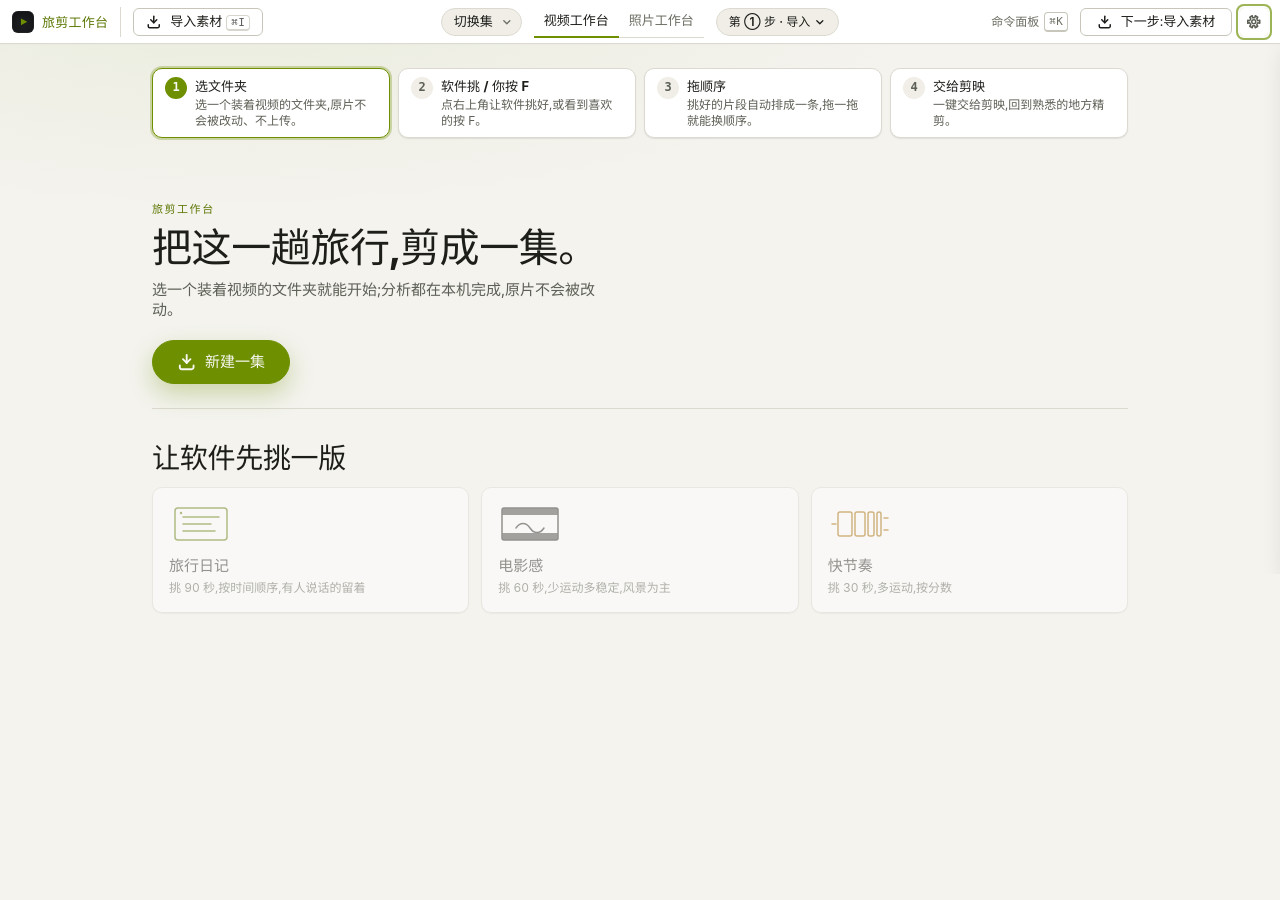
it: R13 设置 → 快捷键 › 撞键即时提示:把「拒绝」录成 F,收藏与拒绝两行都标冲突(role=alert)
The image size is (1280, 900).
Click the button named "设置" at (1254, 22), box [1240, 8, 1268, 36]
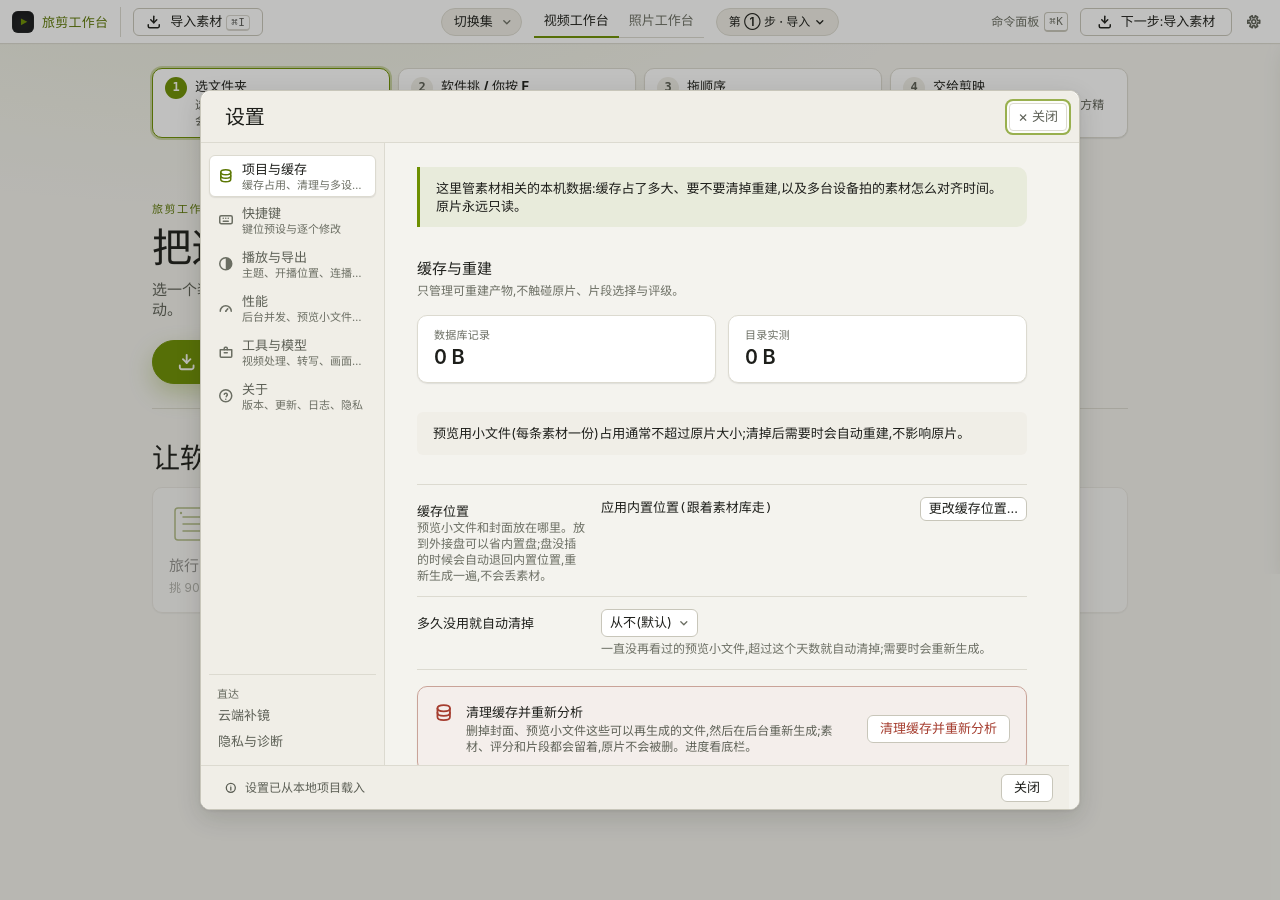
Expected: the message reads "设置已从本地项目载入", [245, 780, 365, 794]
Click the tab "快捷键 键位预设与逐个修改" at (292, 220), box [209, 199, 376, 241]
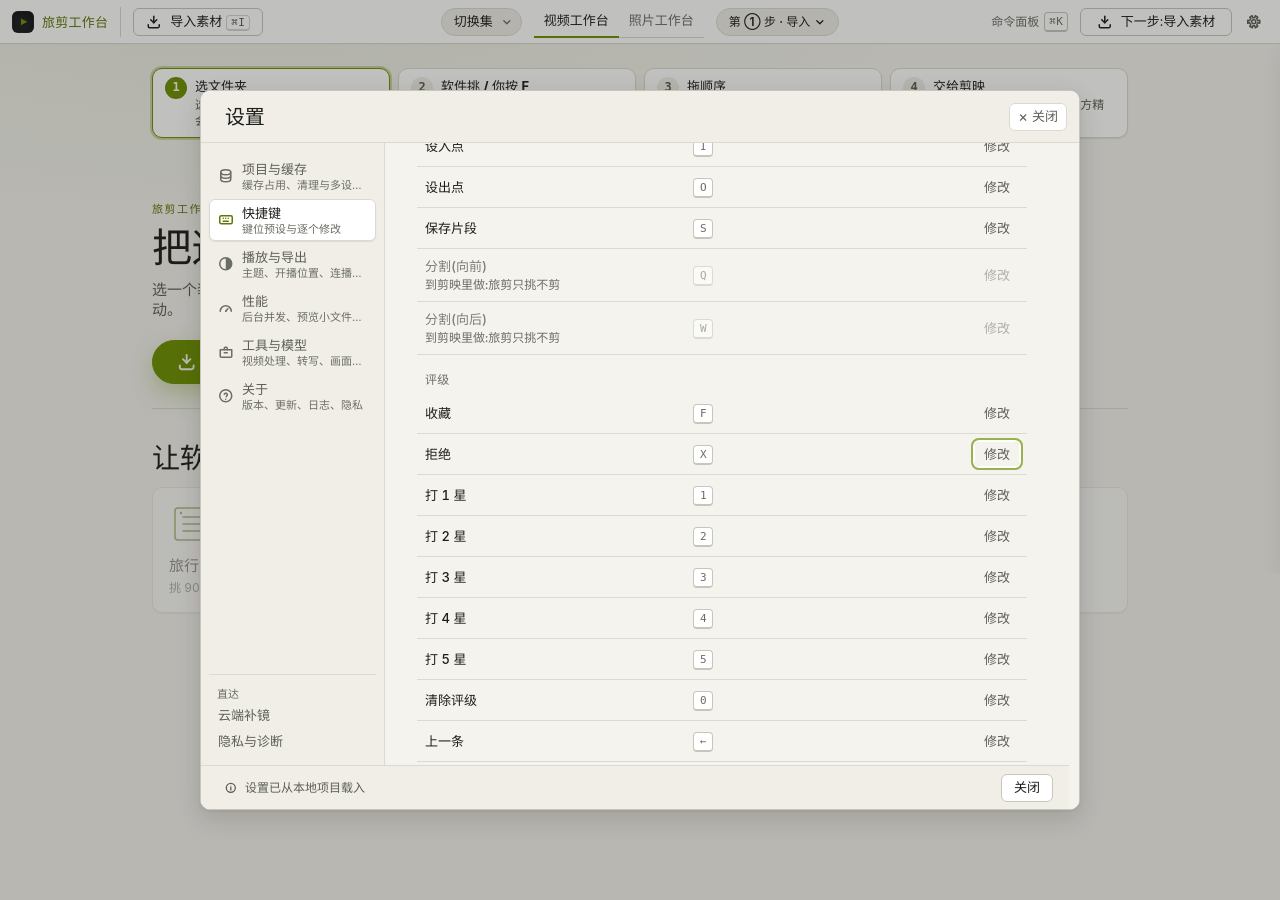
Click the button with aria-label "修改「拒绝」" at (997, 454), box [975, 442, 1019, 466]
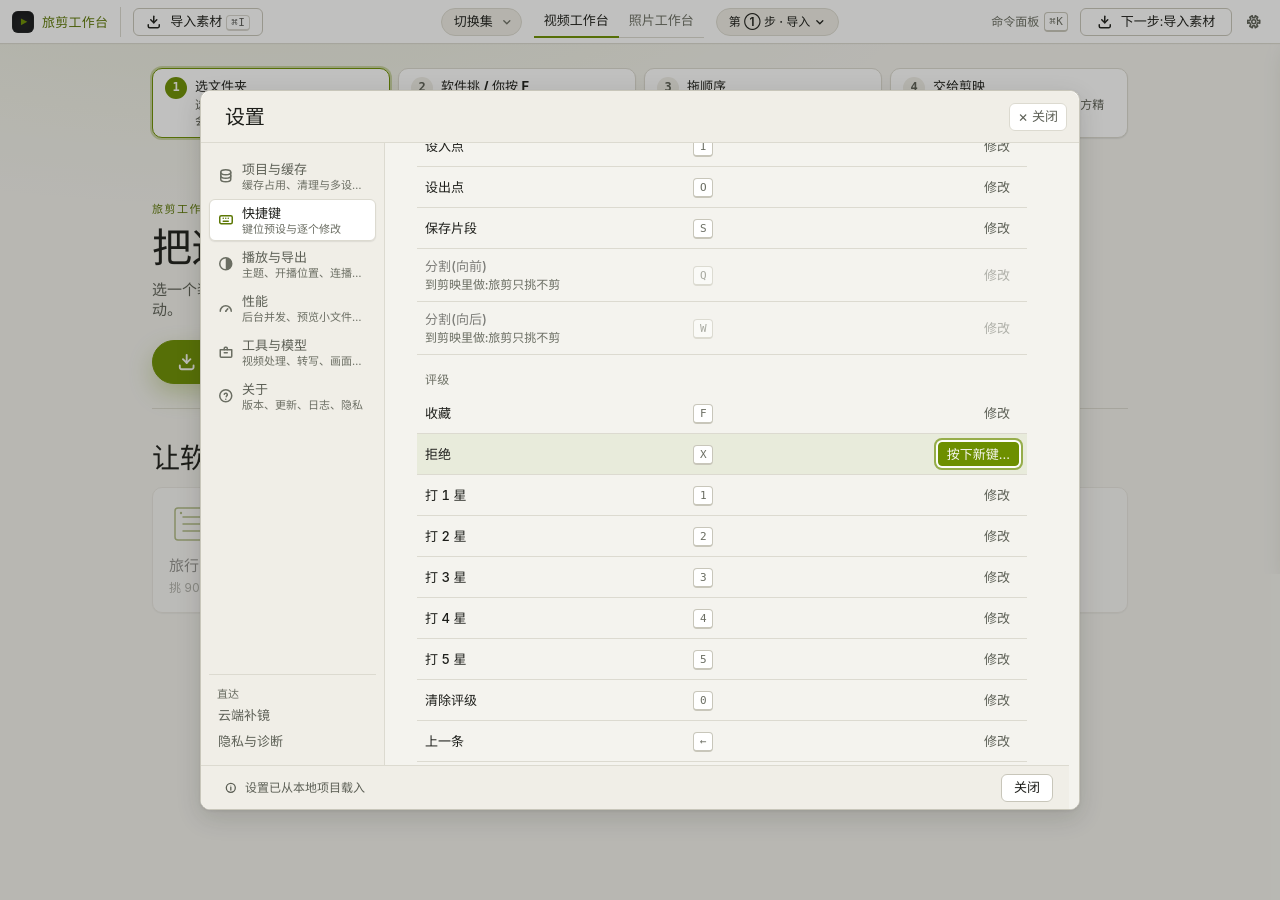
Press f in the button named "修改「拒绝」", box [938, 442, 1019, 466]
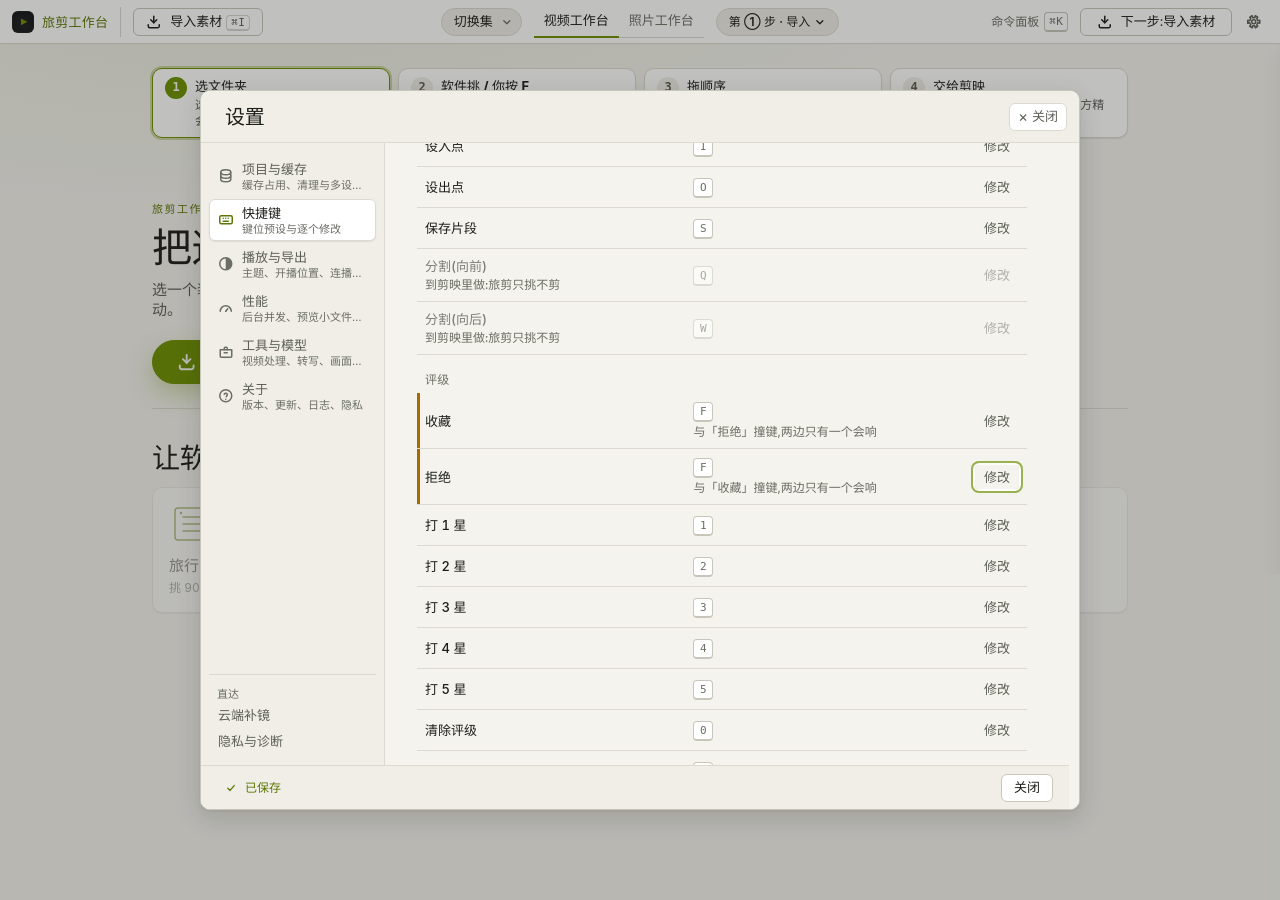
Expected: the message "与「收藏」撞键,两边只有一个会响" is shown, [693, 480, 877, 495]
Expected: the message "与「拒绝」撞键,两边只有一个会响" is shown, [693, 424, 877, 439]
